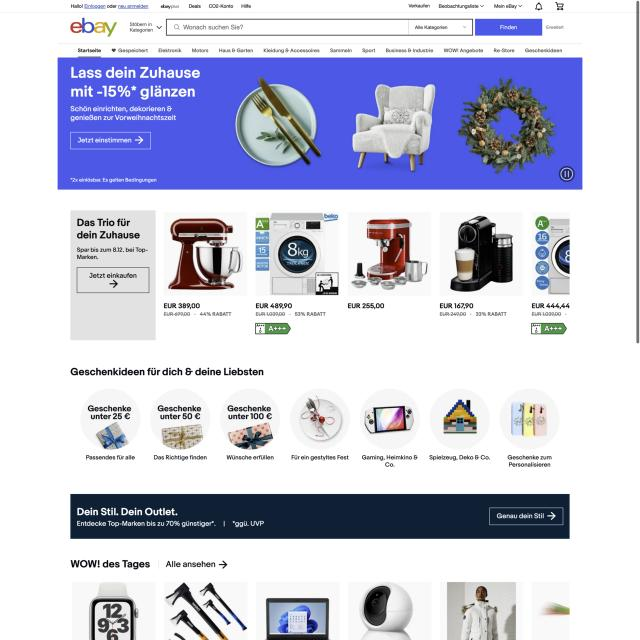input: (166, 18, 474, 36)
logo: (70, 16, 119, 37)
navigation: (78, 387, 560, 472), (76, 44, 564, 60), (406, 1, 524, 11)
